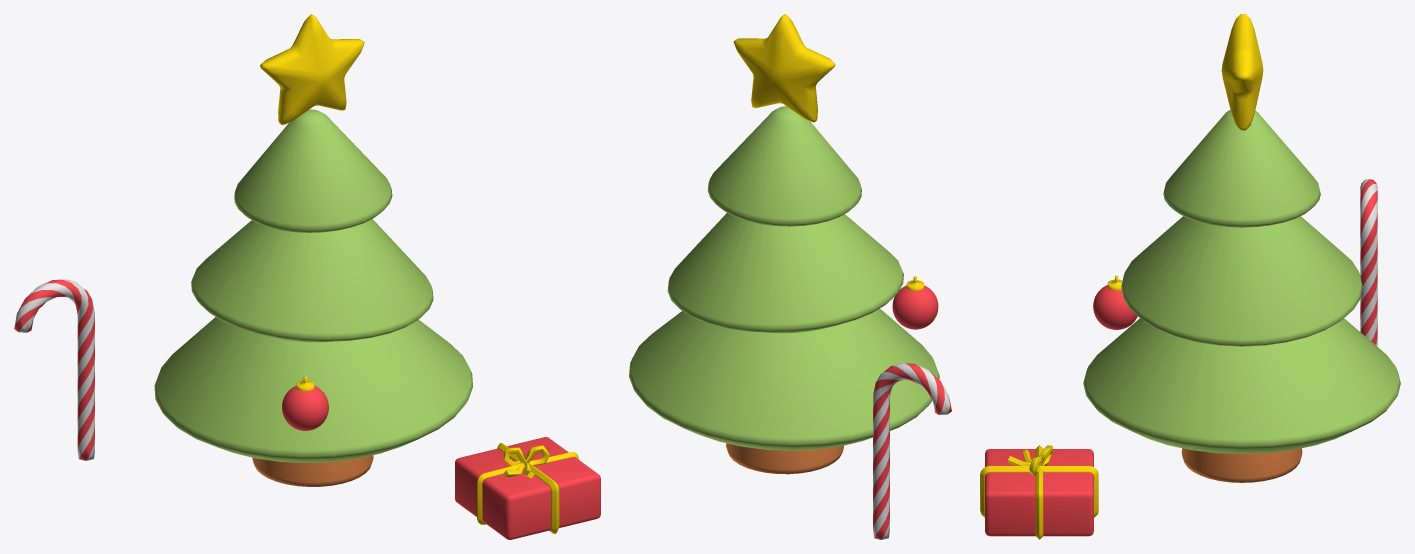
File: simple-holiday 2.fbx
The picture shows the model from 3 angles, left to right: view 1: azimuth 30°, elevation 25°; view 2: azimuth 150°, elevation 25°; view 3: azimuth 270°, elevation 25°; orthographic projection. The views are drawn at different scales.
Visible parts, largest first — view 1: Tree, Gift Box, Star, Candy Cane, Bauble; view 2: Tree, Star, Candy Cane, Bauble; view 3: Tree, Gift Box, Star, Candy Cane, Bauble.
Part boxes in pixels (bbox=[...]): Tree: bbox=[154, 109, 472, 486]; Gift Box: bbox=[455, 437, 600, 539]; Star: bbox=[260, 14, 364, 125]; Candy Cane: bbox=[14, 279, 94, 460]; Bauble: bbox=[282, 376, 328, 430]; Tree: bbox=[629, 106, 939, 474]; Star: bbox=[733, 14, 835, 122]; Candy Cane: bbox=[873, 363, 951, 539]; Bauble: bbox=[892, 276, 938, 329]; Tree: bbox=[1083, 109, 1400, 482]; Gift Box: bbox=[980, 445, 1098, 539]; Star: bbox=[1221, 14, 1263, 130]; Candy Cane: bbox=[1360, 179, 1377, 346]; Bauble: bbox=[1093, 275, 1137, 329].
Size of the model in its own units: 270 by 294 by 249.
